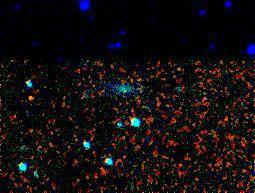star: (17, 83, 47, 113)
